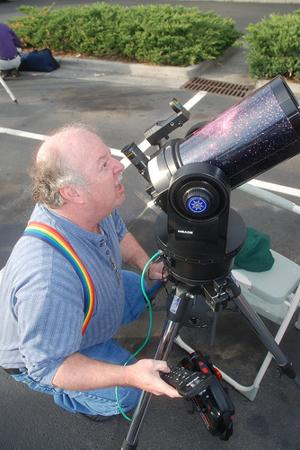person: (2, 125, 185, 418)
